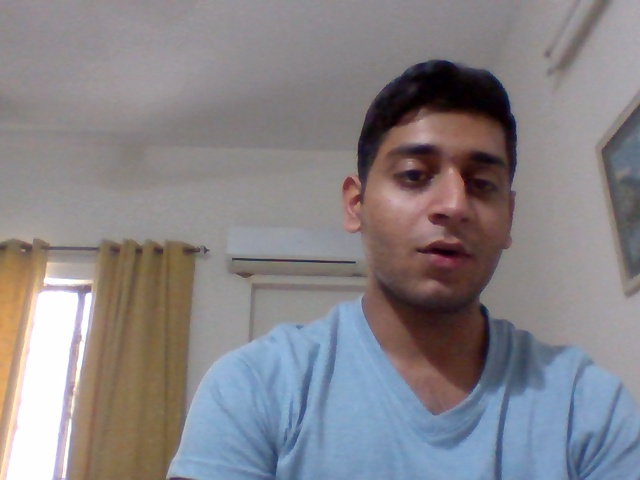surprised: (372, 107, 515, 323)
